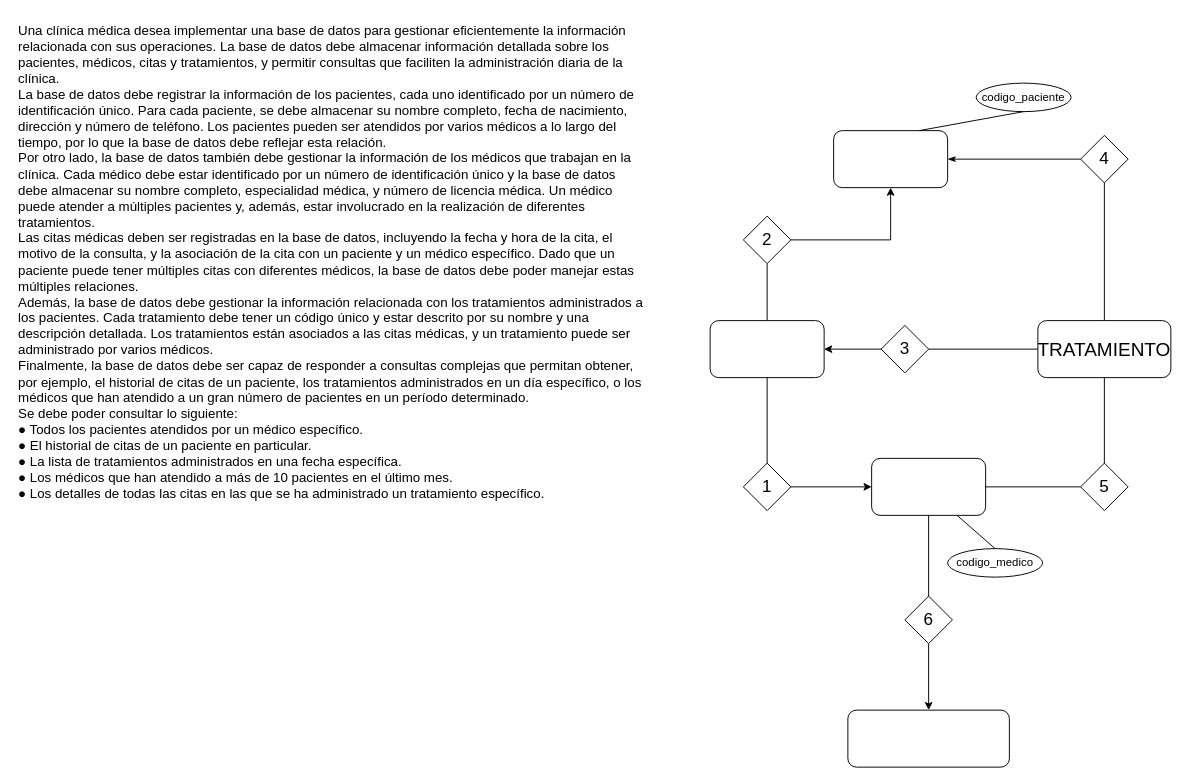
This 1188x784 diagram has some shape labels left out. The shapes that lost their labels are listed below. From the top down, each one's box as (x1, y1, x2, y2) in pixels, then its label:
(833, 130, 948, 188): PACIENTE
(709, 320, 824, 378): CITA
(871, 457, 986, 515): MEDICO
(847, 709, 1009, 767): ESPECIALIDAD
